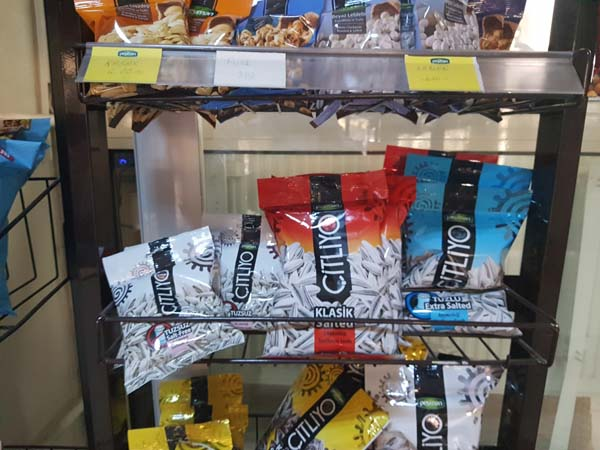citliyorkarasisimsek: (274, 365, 388, 450), (128, 424, 235, 450)
citliyorklasik: (262, 173, 413, 361), (93, 220, 243, 378), (201, 211, 294, 343)
